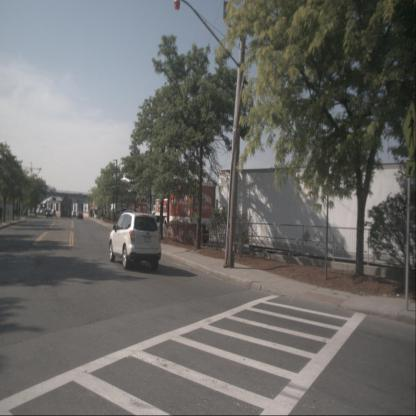human-pedestrian-adult: (0, 205, 3, 226)
vehicle-car: (109, 209, 162, 269), (77, 210, 84, 220), (46, 209, 52, 218), (72, 210, 76, 218), (40, 208, 44, 214), (36, 209, 40, 214)
vehicle-truck: (164, 183, 216, 244), (151, 198, 175, 223)
